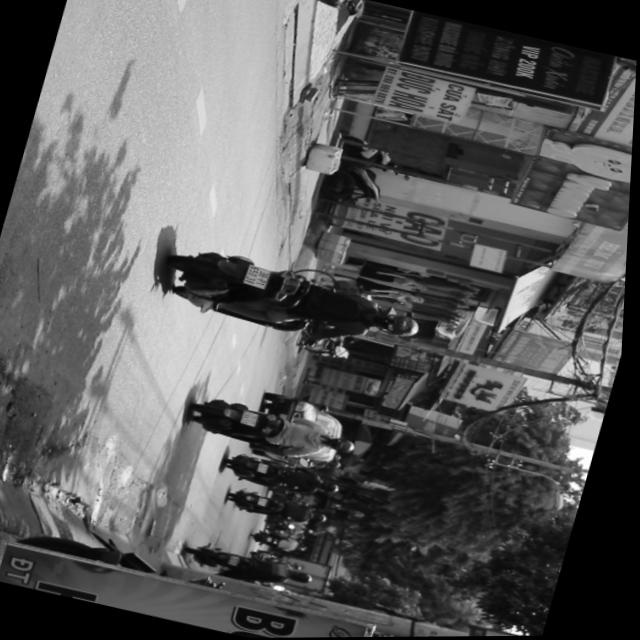helmet: (378, 307, 427, 341), (330, 433, 362, 454)
licenseplate: (153, 235, 434, 365), (185, 389, 366, 471)
nohelmet: (246, 265, 273, 289), (243, 411, 263, 427)
